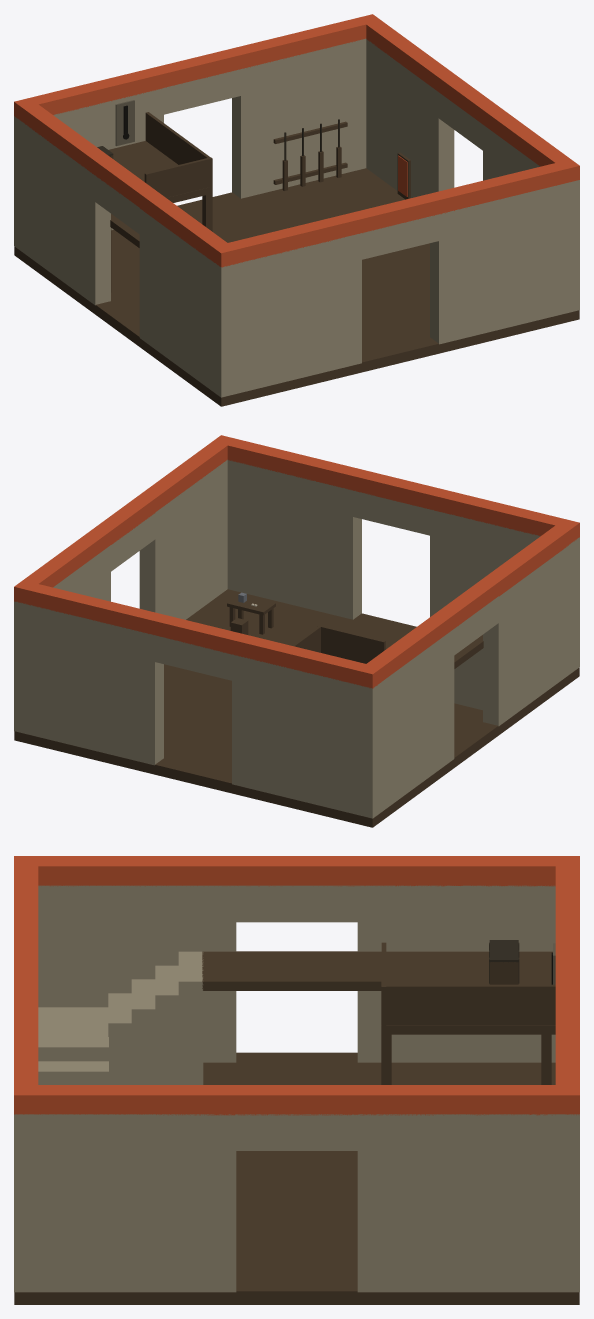
File: LateTurretStair.fbx
3 renders of one model, top to bottom at view 1: azimuth 30°, elevation 25°; view 2: azimuth 150°, elevation 25°; view 3: azimuth 270°, elevation 25°, orthographic. The views are drawn at different scales.
Visible parts, largest first — view 1: LateTurretStair; view 2: LateTurretStair; view 3: LateTurretStair.
Boxes of the visible parts, x1,y1,x2,y2 form: LateTurretStair: [14, 14, 579, 406]; LateTurretStair: [14, 435, 579, 827]; LateTurretStair: [14, 856, 579, 1304].
Bounding box in the file's own units: 1202 × 492 × 1202.
8 materials, 8 textured.
